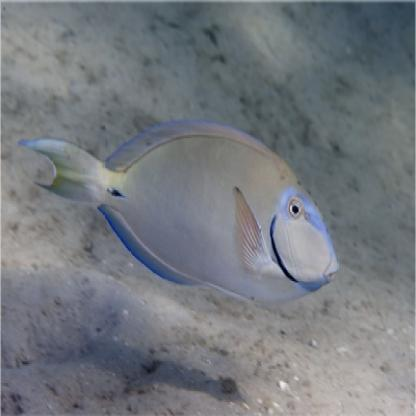Bio: (16, 116, 338, 305)
